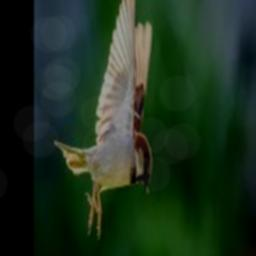Sparrow: (54, 0, 154, 238)
